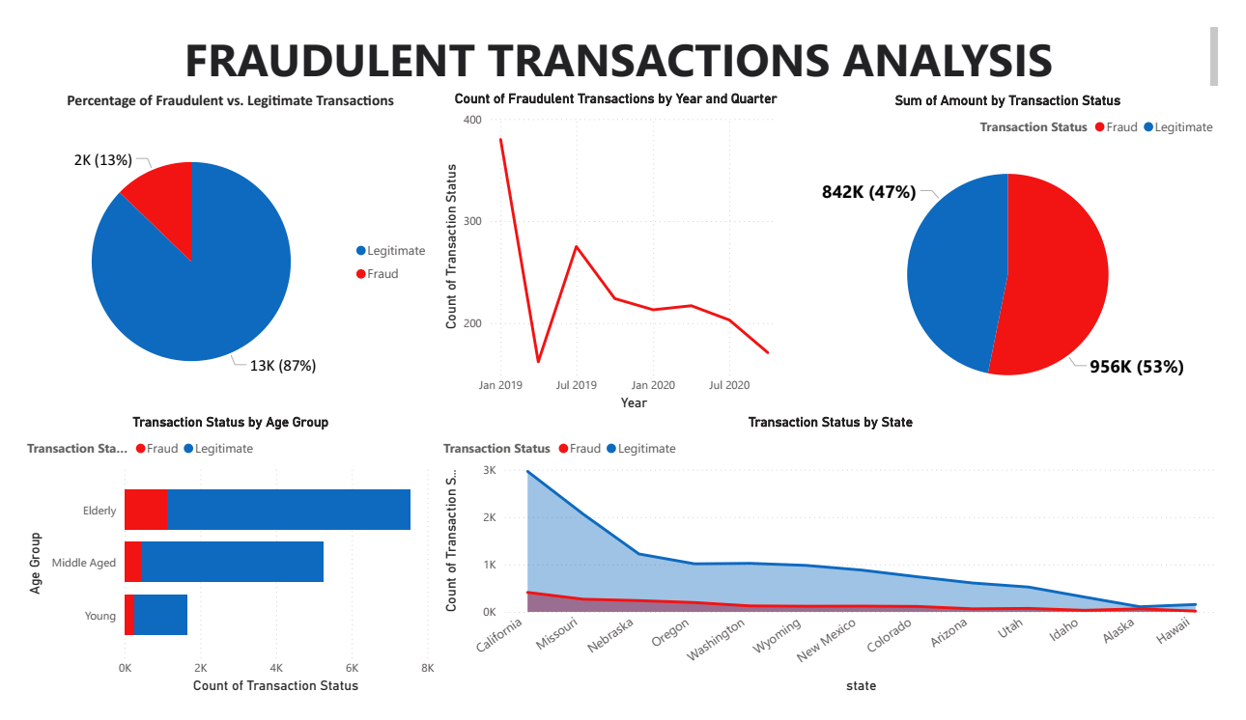

Layout of this report page (visuals, bound fields, positions):
{"tool":"powerbi","page":{"name":"Dashboard","canvas":[1280,720],"ordinal":8},"visuals":[{"type":"textbox","box":[0,0,1280.2,73.4],"z":0},{"type":"textbox","box":[0,370,265,287],"z":1000},{"type":"shape","box":[822.2,73.4,457.9,344.2],"z":2000},{"type":"shape","box":[0,73.4,443.5,344.2],"z":3000},{"type":"pieChart","title":"Percentage of Fraudulent vs. Legitimate Transactions","fields":{"Category":["fraud_data.is_fraud"],"Y":["CountNonNull(fraud_data.is_fraud)"]},"box":[0,73.4,443.5,344.2],"z":4000},{"type":"barChart","title":"Transaction Status by Age Group","fields":{"Category":["fraud_data.Age Group"],"Y":["CountNonNull(fraud_data.is_fraud)"],"Series":["fraud_data.is_fraud"]},"box":[0,417.6,443.5,302.4],"z":5000},{"type":"areaChart","title":"Transaction Status by State","fields":{"Y":["CountNonNull(fraud_data.is_fraud)"],"Category":["fraud_data.state"],"Series":["fraud_data.is_fraud"]},"box":[443.5,417.6,836.6,302.4],"z":6000},{"type":"pieChart","title":"Sum of Amount by Transaction Status","fields":{"Y":["Sum(fraud_data.amt)"],"Category":["fraud_data.Transaction Status"]},"box":[822.2,74.9,457.9,342.7],"z":7000},{"type":"lineChart","title":"Count of Fraudulent Transactions by Year and Quarter","fields":{"Y":["CountNonNull(fraud_data.Transaction Status)"],"Category":["fraud_data.trans_date_trans_time.Variation.Date Hierarchy.Year","fraud_data.trans_date_trans_time.Variation.Date Hierarchy.Quarter","fraud_data.trans_date_trans_time.Variation.Date Hierarchy.Month","fraud_data.trans_date_trans_time.Variation.Date Hierarchy.Day"]},"box":[443.5,73.4,378.7,344.2],"z":8000}]}

Visuals, with their boxes in screenshot pixels (x1, y1, x2, y2), scaled from the page's 1280x720 canvas onto the 1246x720 screenshot:
textbox: (0,0,1245,73)
textbox: (0,370,258,657)
shape: (800,73,1245,418)
shape: (0,73,432,418)
"Percentage of Fraudulent vs. Legitimate Transactions" pieChart: (0,73,432,418)
"Transaction Status by Age Group" barChart: (0,418,432,719)
"Transaction Status by State" areaChart: (432,418,1245,719)
"Sum of Amount by Transaction Status" pieChart: (800,75,1245,418)
"Count of Fraudulent Transactions by Year and Quarter" lineChart: (432,73,800,418)
